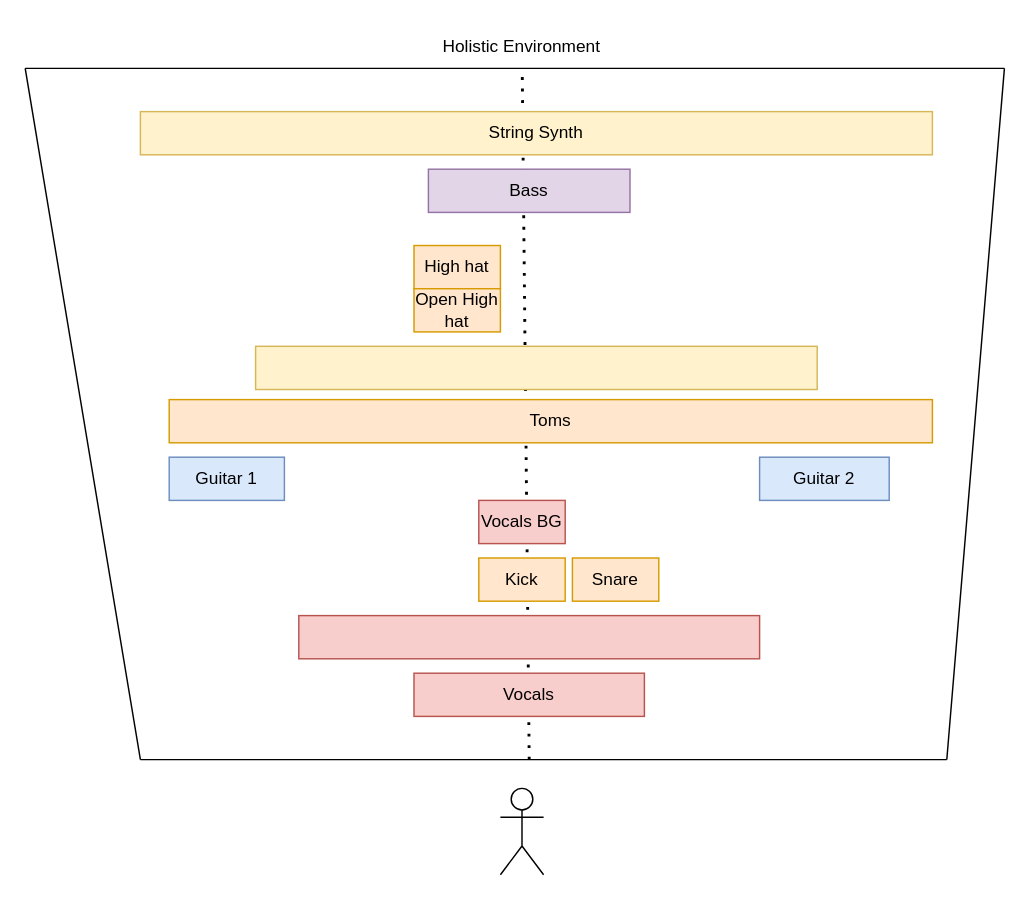
Image size: 1031x900. Some labels were removed from this diagram. The shapes that lost their labels are listed below. From the top down, each one's centre as x and y in pixels, then its label:
At (535,367): "Keys".
At (528,636): "Vocals DT".
